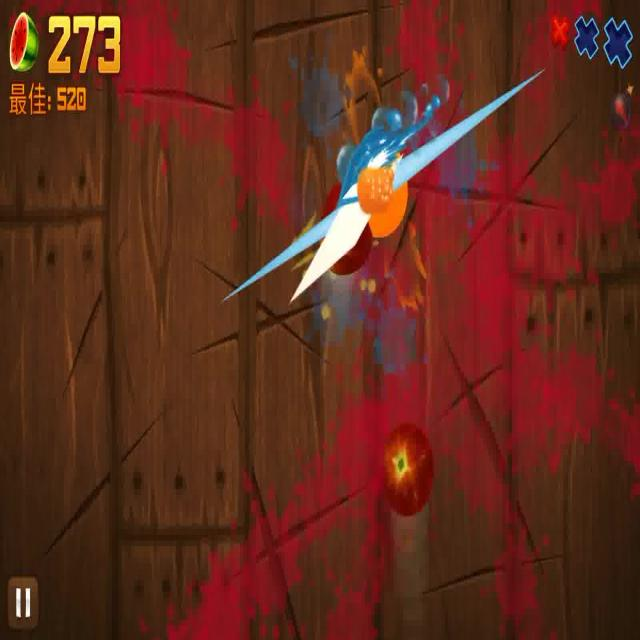fruit: (380, 419, 433, 521), (318, 185, 371, 272), (358, 156, 409, 235)
